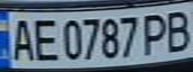0: (60, 16, 81, 61)
7: (78, 15, 103, 61), (118, 12, 142, 59)
8: (100, 15, 121, 60)
A: (3, 15, 36, 62)
B: (160, 8, 193, 54)
E: (27, 16, 60, 63)
P: (139, 10, 172, 56)
